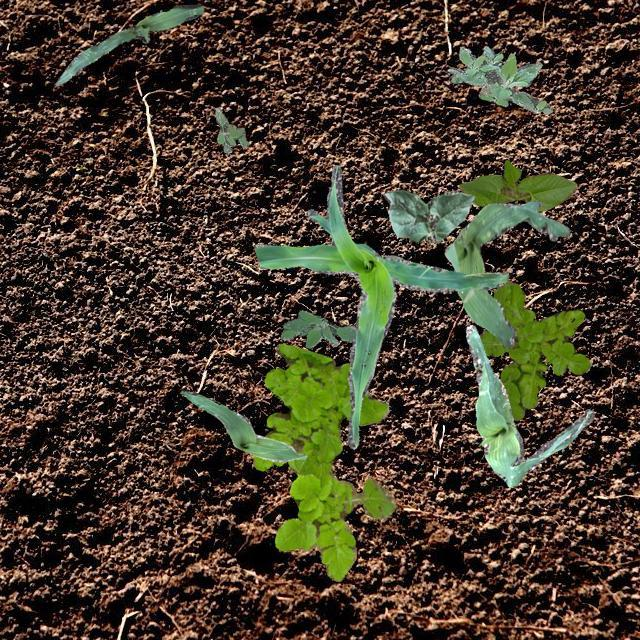crop: (252, 164, 508, 448), (464, 324, 594, 486), (444, 200, 570, 348), (55, 2, 202, 84), (180, 389, 306, 462), (458, 158, 576, 210), (382, 188, 473, 242)
weed: (252, 342, 396, 580), (478, 278, 590, 420), (446, 46, 552, 112), (280, 310, 354, 348), (214, 106, 248, 152)
